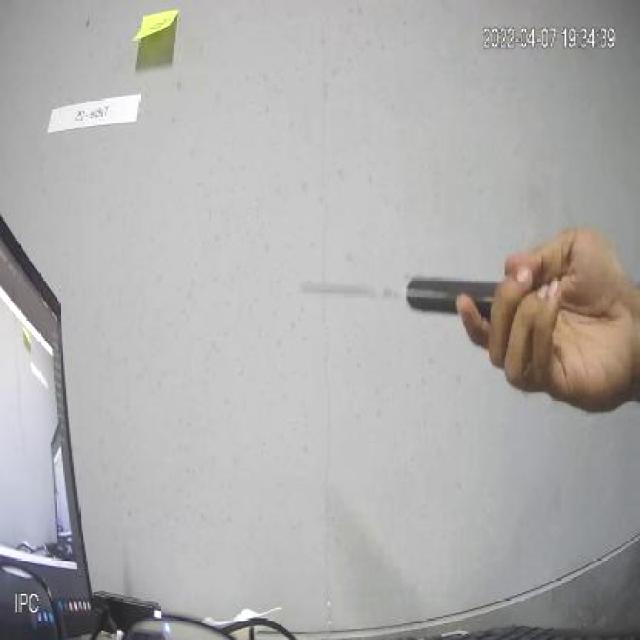knife: (297, 212, 532, 322)
